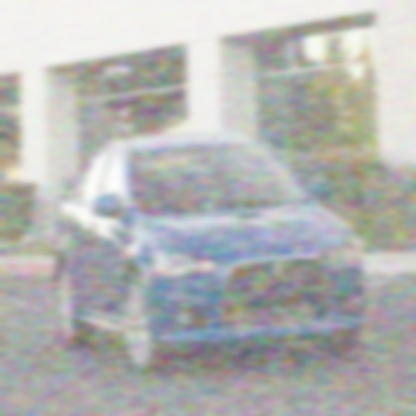Vehicle: (53, 129, 368, 375)
